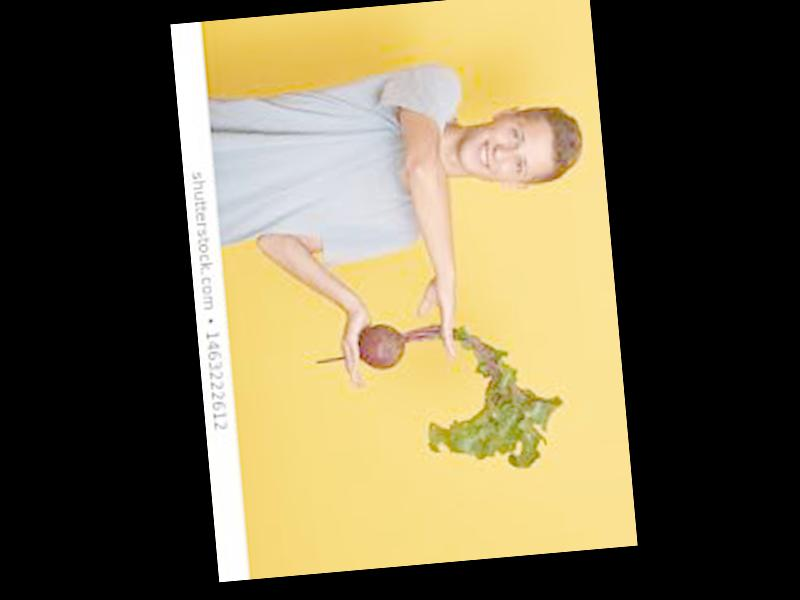Beet: (314, 309, 568, 486)
